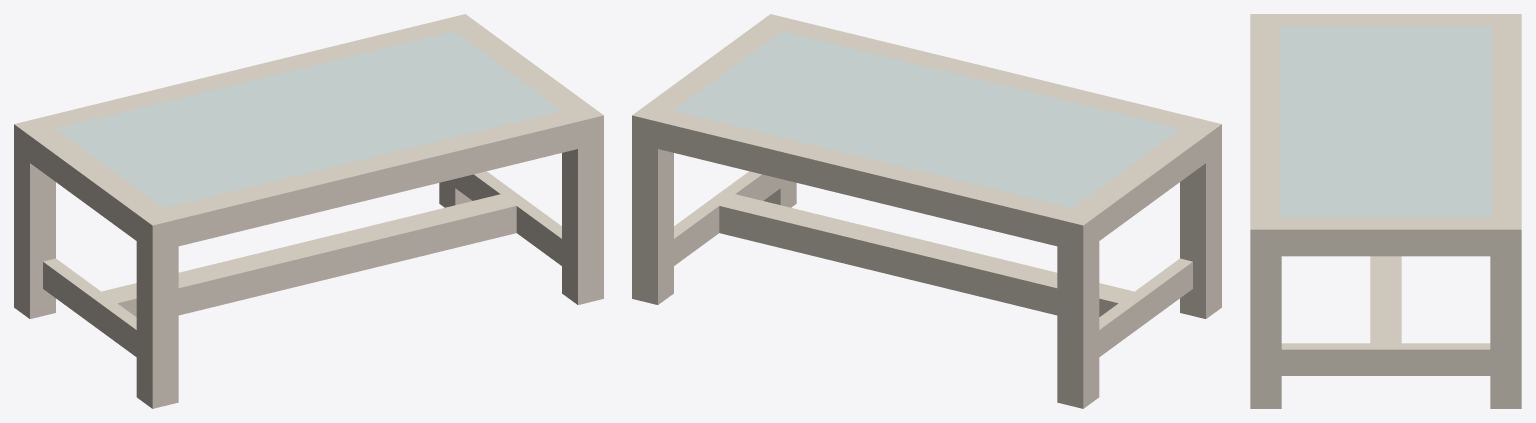
Rendered from kitTableGlass.glb.
The picture shows the model from 3 angles, left to right: view 1: azimuth 30°, elevation 25°; view 2: azimuth 150°, elevation 25°; view 3: azimuth 270°, elevation 25°; orthographic projection. The views are drawn at different scales.
Visible parts, largest first — view 1: kitTableGlass_metal, kitTableGlass_glass; view 2: kitTableGlass_metal, kitTableGlass_glass; view 3: kitTableGlass_metal, kitTableGlass_glass.
Boxes of the visible parts, x1,y1,x2,y2 form: kitTableGlass_metal: [14, 14, 603, 408]; kitTableGlass_glass: [55, 31, 562, 207]; kitTableGlass_metal: [632, 14, 1221, 408]; kitTableGlass_glass: [673, 31, 1180, 207]; kitTableGlass_metal: [1250, 14, 1521, 408]; kitTableGlass_glass: [1279, 26, 1492, 216].
Size of the model in its own units: 1.68 by 0.6535 by 0.8947.
